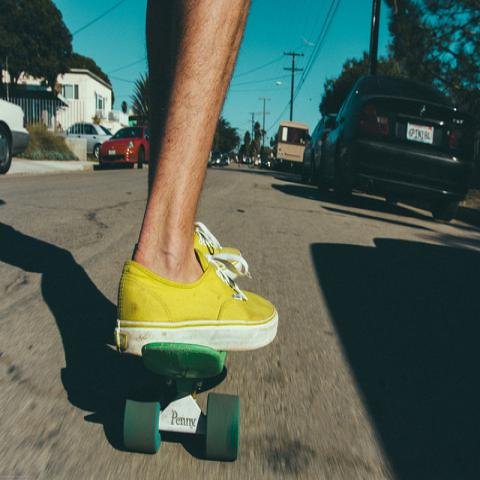car: (319, 75, 474, 223), (100, 126, 150, 169), (303, 116, 331, 184), (0, 102, 28, 170), (65, 122, 111, 158), (211, 152, 224, 166), (223, 155, 230, 164)
